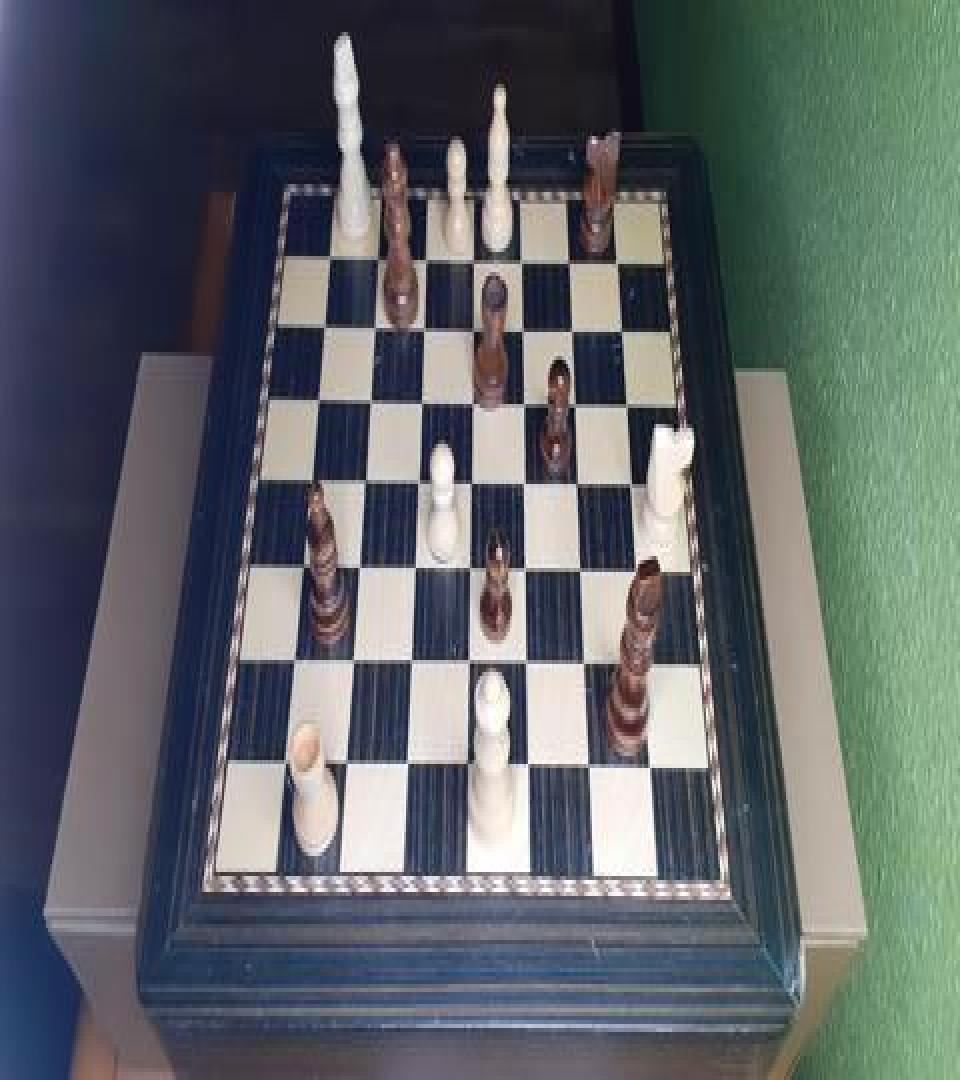xcorner: (614, 246, 628, 274), (566, 244, 580, 272), (517, 244, 531, 272), (468, 242, 482, 270), (419, 240, 433, 268), (370, 240, 384, 268), (321, 238, 335, 266), (618, 316, 632, 344), (568, 314, 582, 342), (518, 314, 532, 342), (467, 312, 481, 340), (417, 312, 431, 340), (366, 310, 380, 338), (315, 308, 329, 336), (623, 392, 637, 420), (571, 390, 585, 418), (519, 390, 533, 418), (466, 388, 480, 416), (414, 388, 428, 416), (361, 386, 375, 414), (308, 384, 322, 412), (628, 472, 642, 500), (574, 472, 588, 500), (520, 470, 534, 498), (465, 470, 479, 498), (411, 468, 425, 496), (356, 468, 370, 496), (301, 466, 315, 494), (634, 560, 648, 588), (578, 560, 592, 588), (521, 560, 535, 588), (464, 558, 478, 586), (408, 558, 422, 586), (351, 556, 365, 584), (293, 556, 307, 584), (640, 656, 654, 684), (581, 656, 595, 684), (522, 654, 536, 682), (463, 654, 477, 682), (404, 654, 418, 682), (345, 652, 359, 680), (285, 652, 299, 680), (646, 760, 660, 788), (585, 760, 599, 788), (524, 760, 538, 788), (462, 758, 476, 786), (400, 758, 414, 786), (338, 758, 352, 786), (276, 756, 290, 784)
